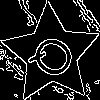Q: (26, 29, 87, 89)
